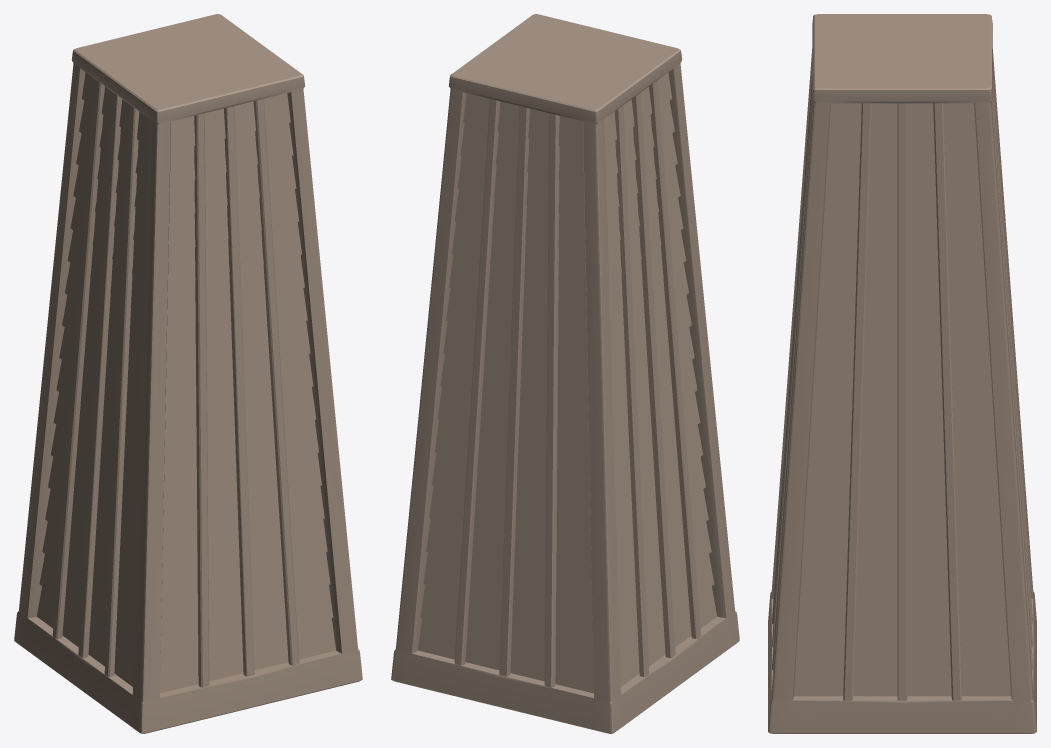
File: SM_Pulley.fbx
3 views of the same model, side by side, from view 1: azimuth 30°, elevation 25°; view 2: azimuth 150°, elevation 25°; view 3: azimuth 270°, elevation 25° (orthographic). The views are drawn at different scales.
Visible parts, largest first — view 1: Ita (×2), Frame (×4), Bar1 (×2), Bar2 (×2), Bar0 (×2); view 2: Ita (×2), Frame (×4), Bar1 (×2), Bar0 (×2), Bar2 (×2); view 3: Ita, Frame (×4), Bar1 (×3), Bar0 (×3), Bar2 (×3).
Boxes of the visible parts, x1,y1,x2,y2 form: Ita (×2): [36, 72, 335, 693]; Frame (×4): [14, 14, 362, 733]; Bar1 (×2): [78, 92, 254, 676]; Bar2 (×2): [104, 99, 299, 676]; Bar0 (×2): [52, 80, 209, 687]; Ita (×2): [418, 72, 717, 693]; Frame (×4): [391, 14, 739, 733]; Bar1 (×2): [499, 92, 675, 676]; Bar0 (×2): [454, 99, 649, 676]; Bar2 (×2): [544, 80, 701, 687]; Ita: [794, 103, 1010, 696]; Frame (×4): [768, 14, 1036, 733]; Bar1 (×3): [772, 87, 1032, 700]; Bar0 (×3): [772, 72, 1032, 700]; Bar2 (×3): [772, 72, 1032, 700].
Bounding box in the file's own units: 97.06 × 250 × 97.06.
